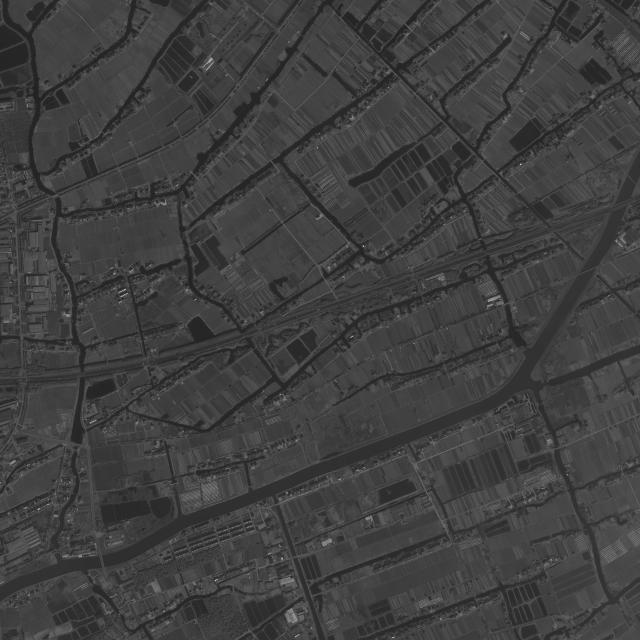ship: (418, 93, 421, 96), (449, 532, 451, 534)
